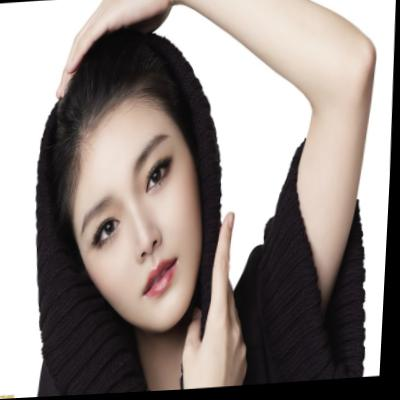netural: (65, 90, 212, 336)
